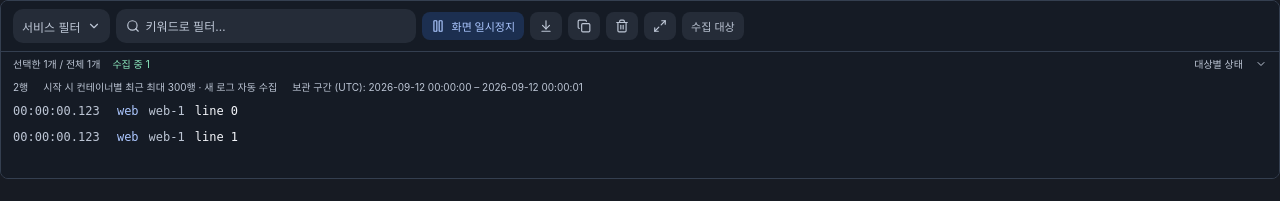
it: project log empty states › clears an empty keyword filter without restarting collection
The image size is (1280, 201).
Type "missing" into the search field named "로그 키워드 검색" at point(276, 26), box [146,9,406,43]
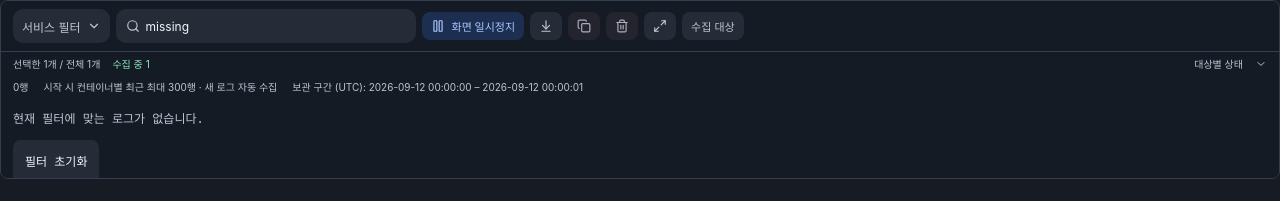
Now the message shows "현재 필터에 맞는 로그가 없습니다", box [13,112,204,126]
Click the button "필터 초기화" at point(56, 162), box [13,140,99,184]
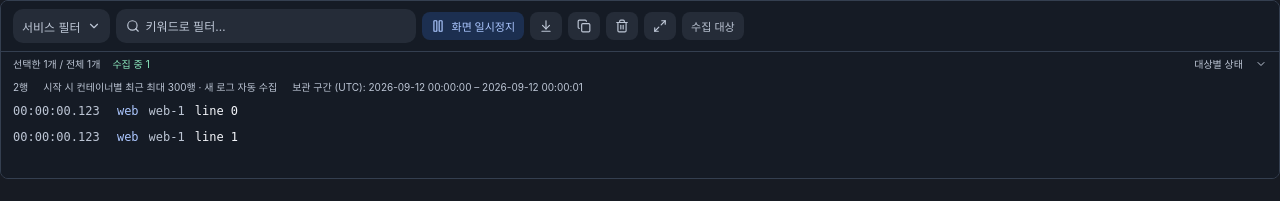
Now the text "line 0" is shown, box [195,104,238,118]
Now the search field is empty, box [146,9,406,43]
